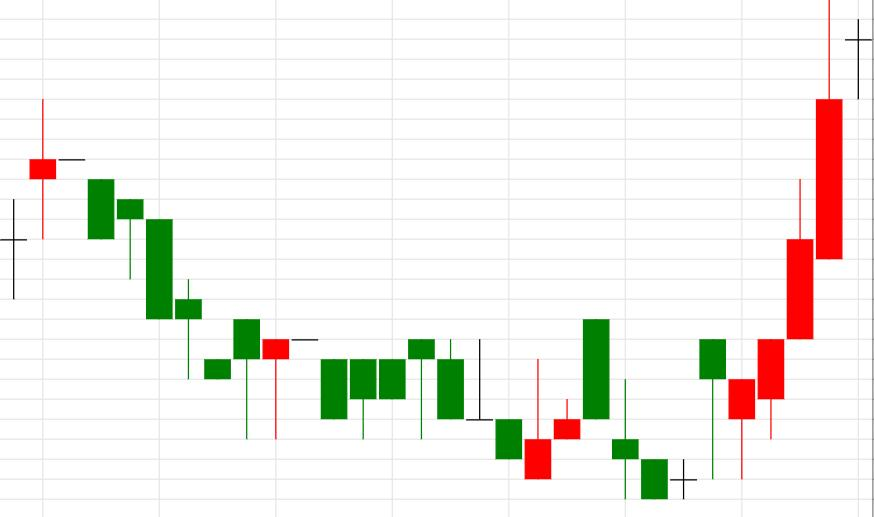inverse_hammer_rise: (408, 340, 552, 479)
